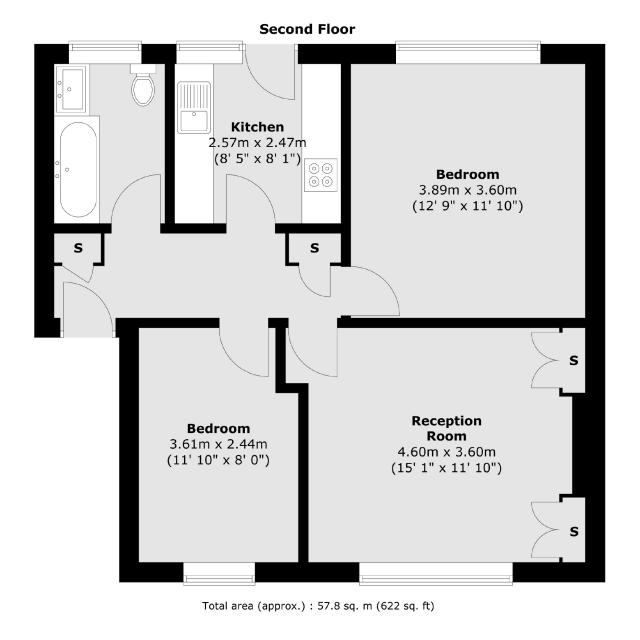DOOR: (217, 317, 272, 380), (338, 265, 403, 318), (224, 171, 278, 234), (287, 317, 340, 380), (243, 42, 296, 102), (110, 173, 162, 234), (62, 280, 113, 338)
ROOM: (275, 317, 607, 587), (340, 39, 606, 329), (119, 317, 309, 587), (164, 39, 352, 234)
WINDOW: (358, 561, 514, 587), (395, 40, 542, 65), (182, 561, 256, 586), (176, 40, 244, 65), (68, 40, 142, 51)
